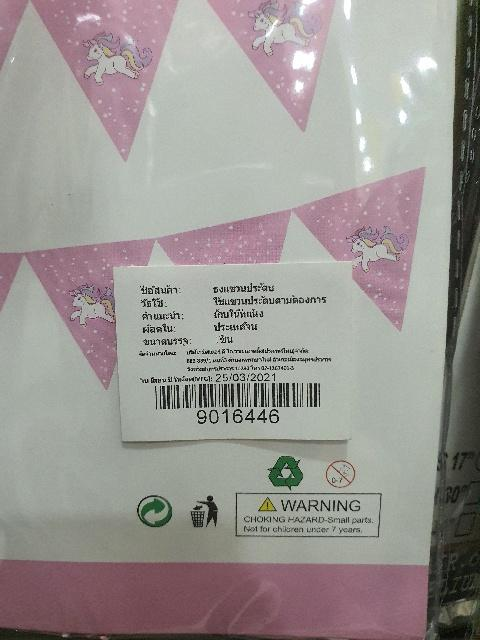Barcode: (144, 375, 331, 425)
